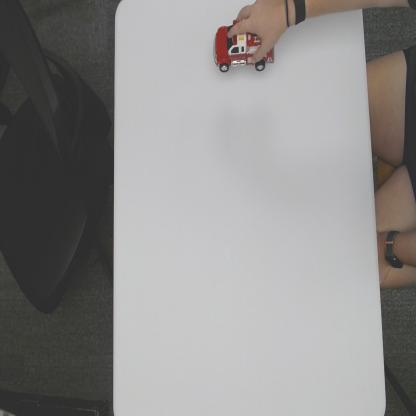Firetruck: (212, 22, 276, 74)
Hand: (228, 0, 288, 62)
